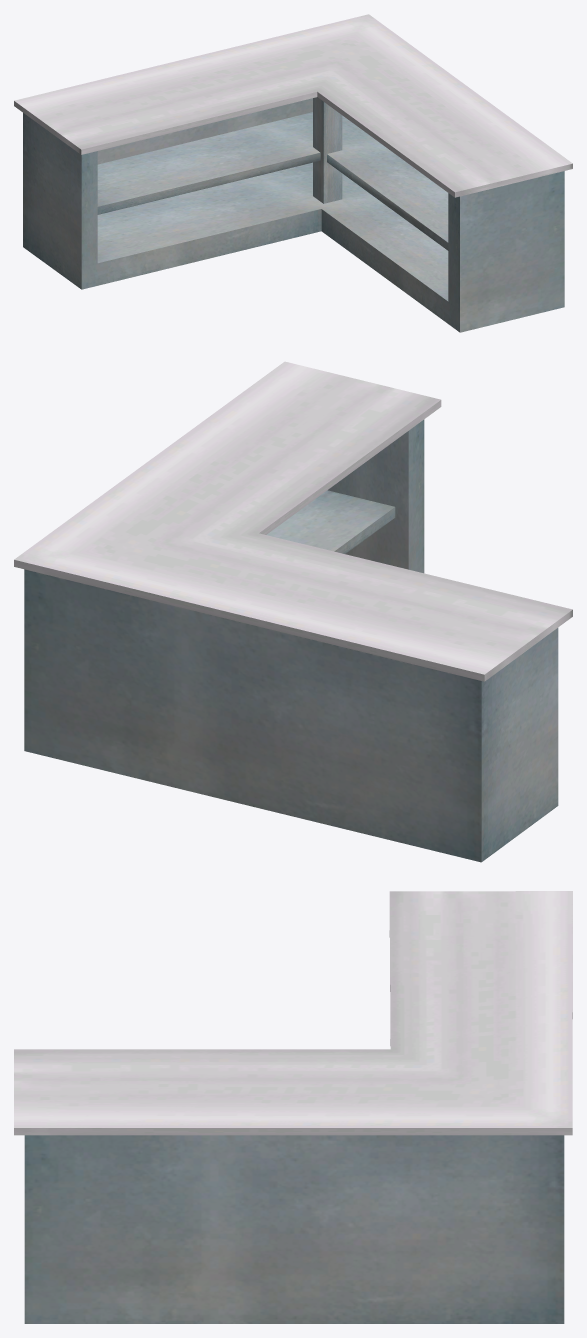
The model's file is frn_bar_piece_straight_s1_l0.fbx.
3 views of the same model, one above another, from view 1: azimuth 30°, elevation 25°; view 2: azimuth 150°, elevation 25°; view 3: azimuth 270°, elevation 25° (orthographic). The views are drawn at different scales.
Visible parts, largest first — view 1: mesh_node; view 2: mesh_node; view 3: mesh_node.
Boxes of the visible parts, box(x1,y1,x2,y2) form: mesh_node: box(14, 14, 572, 332); mesh_node: box(14, 361, 572, 862); mesh_node: box(14, 891, 572, 1323).
Bounding box in the file's own units: 2.94 × 1.15 × 2.93.
